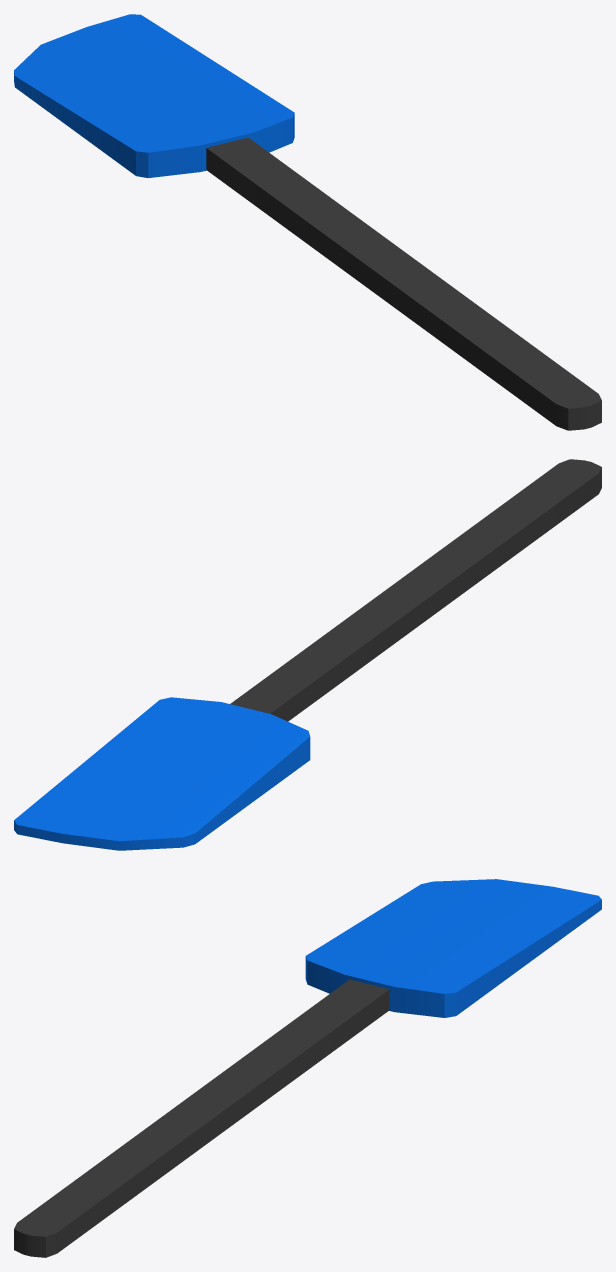
The model's file is Rubber_Spatula_6.FBX.
3 views of the same model, one above another, from view 1: azimuth 30°, elevation 25°; view 2: azimuth 150°, elevation 25°; view 3: azimuth 330°, elevation 25° (orthographic). The views are drawn at different scales.
Visible parts, largest first — view 1: Rubber_Spatula; view 2: Rubber_Spatula; view 3: Rubber_Spatula.
Boxes of the visible parts, x1=… form: Rubber_Spatula: x1=14, y1=14, x2=601, y2=430; Rubber_Spatula: x1=14, y1=459, x2=601, y2=850; Rubber_Spatula: x1=14, y1=879, x2=601, y2=1257.
Size of the model in its own units: 15 by 2.41 by 86.77.
